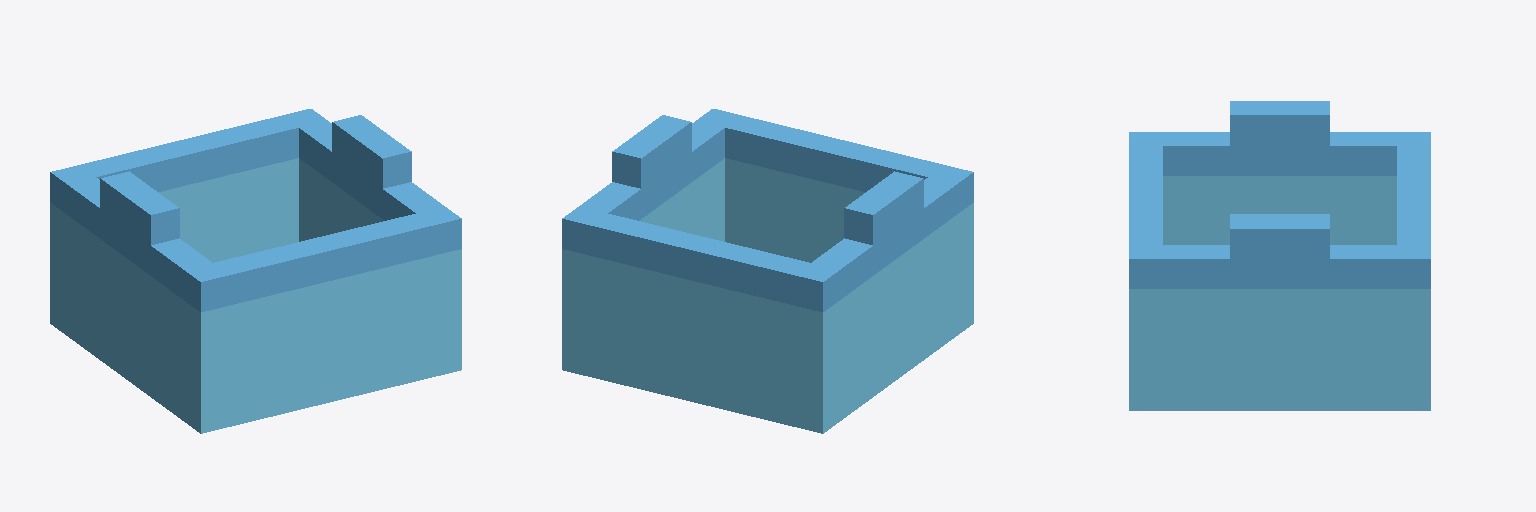
3 renders of one model, left to right at view 1: azimuth 30°, elevation 25°; view 2: azimuth 150°, elevation 25°; view 3: azimuth 270°, elevation 25°, orthographic.
Parts seen in each view (by area): view 1: prize_ball_bottom; view 2: prize_ball_bottom; view 3: prize_ball_bottom.
Part boxes in pixels (left/top/right/bottom): prize_ball_bottom: left=50, top=109, right=461, bottom=433; prize_ball_bottom: left=562, top=109, right=973, bottom=433; prize_ball_bottom: left=1129, top=101, right=1430, bottom=410.
Bounding box in the file's own units: 1.44 × 0.96 × 1.44.
Materials: 1 (1 with a texture image).